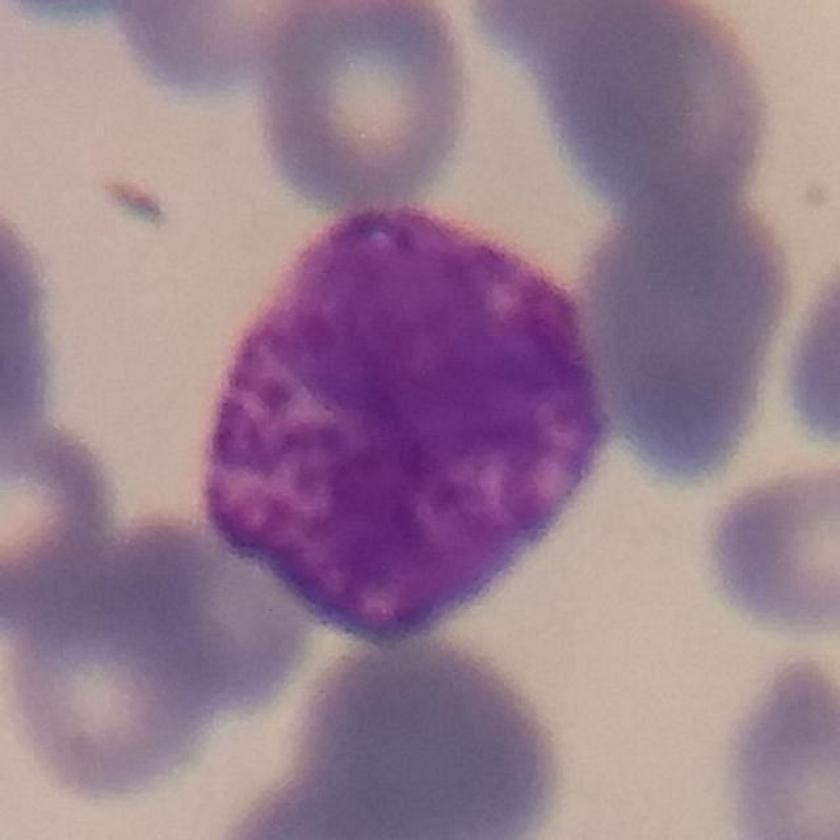basophil: (198, 194, 622, 647)
